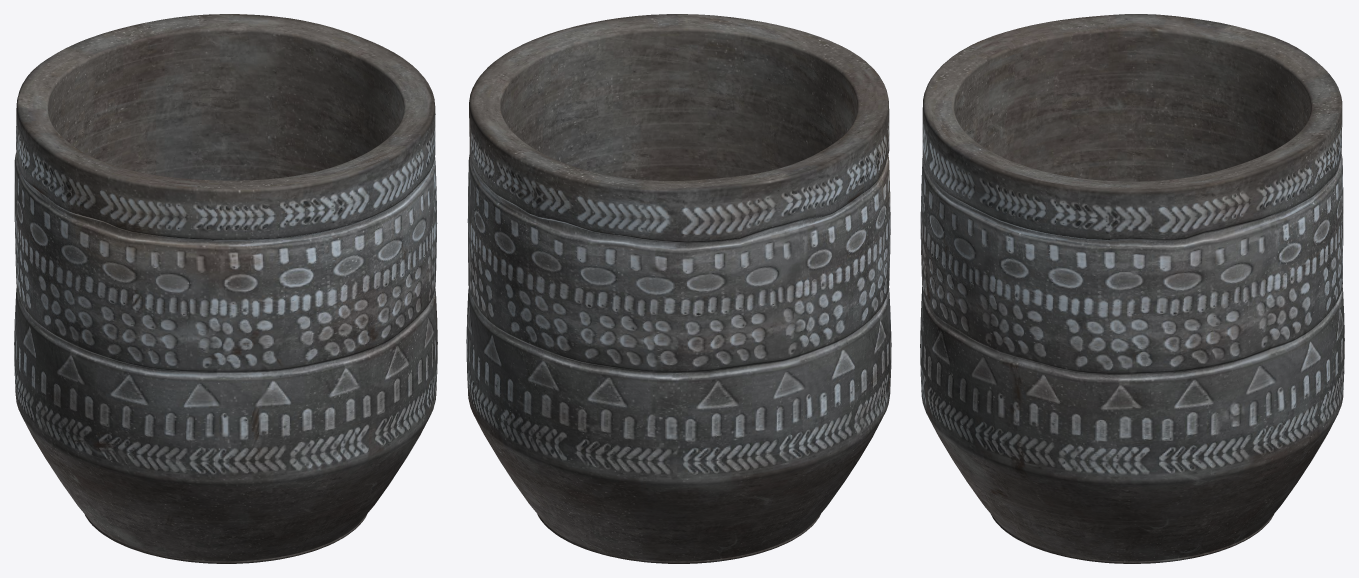
Rendered from planter_B078JLC1L8.glb.
3 renders of one model, left to right at view 1: azimuth 30°, elevation 25°; view 2: azimuth 150°, elevation 25°; view 3: azimuth 270°, elevation 25°, orthographic.
Parts seen in each view (by area): view 1: RootNode; view 2: RootNode; view 3: RootNode.
Part boxes in pixels (bbox=[...]): RootNode: bbox=[14, 14, 437, 563]; RootNode: bbox=[466, 14, 891, 563]; RootNode: bbox=[920, 14, 1344, 563].
Size of the model in its own units: 0.1422 by 0.1493 by 0.1422.
1 material, 1 textured.
